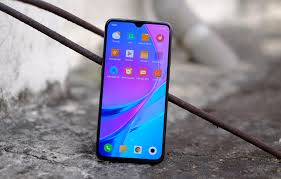mi: (94, 16, 173, 166)
